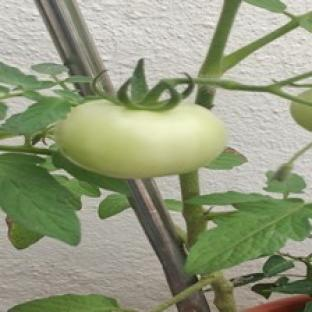Tomato: (55, 99, 227, 178), (290, 102, 311, 130)
